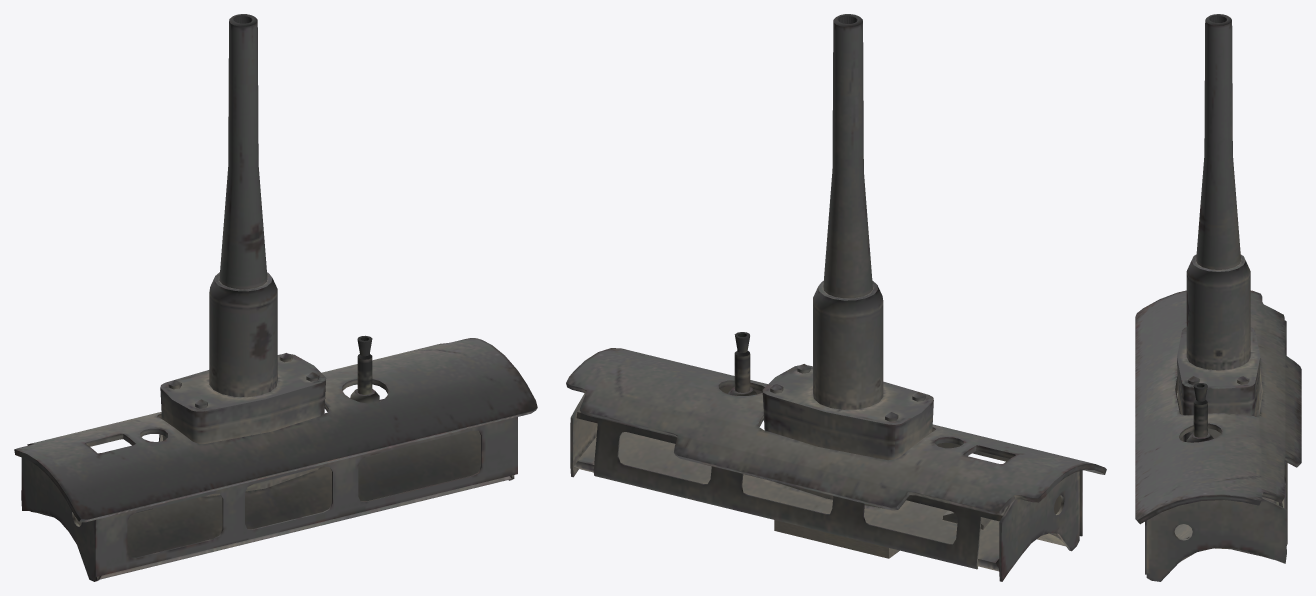
Rendered from Gun_07.glb.
The picture shows the model from 3 angles, left to right: view 1: azimuth 30°, elevation 25°; view 2: azimuth 150°, elevation 25°; view 3: azimuth 270°, elevation 25°; orthographic projection. The views are drawn at different scales.
Parts seen in each view (by area): view 1: set_0_group_0; view 2: set_0_group_0; view 3: set_0_group_0.
Boxes of the visible parts, x1=… form: set_0_group_0: x1=14, y1=14, x2=537, y2=581; set_0_group_0: x1=566, y1=14, x2=1106, y2=581; set_0_group_0: x1=1135, y1=14, x2=1301, y2=581.
Size of the model in its own units: 1.49 by 1.53 by 0.5025.
Materials: 1 (1 with a texture image).
